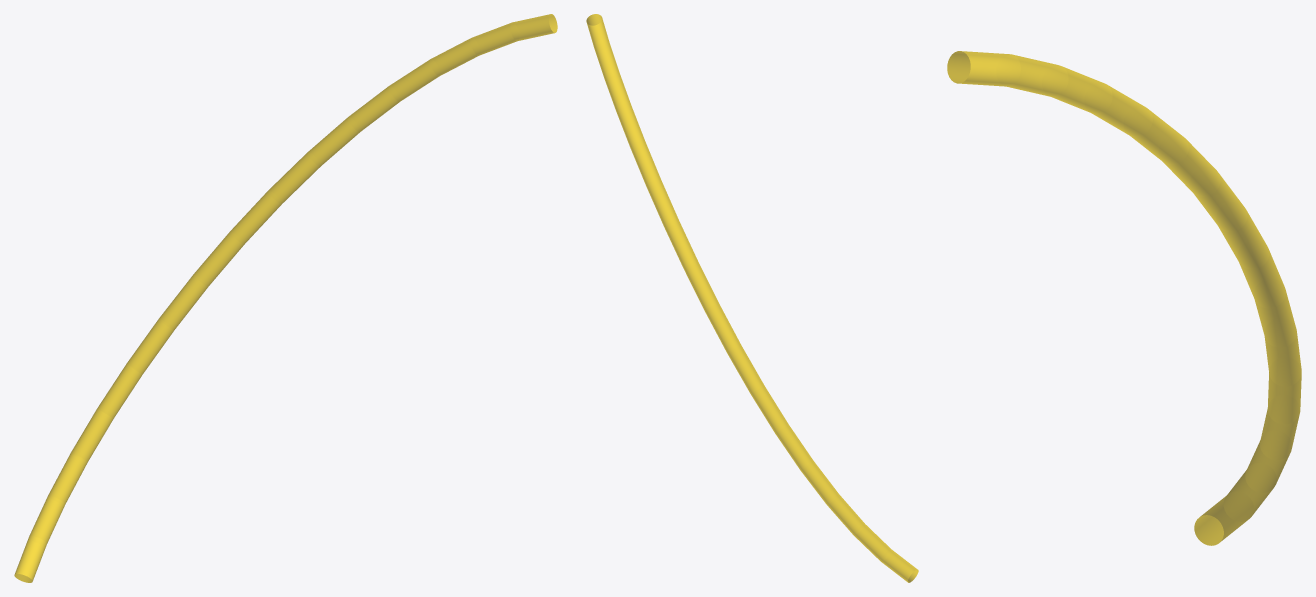
The model's file is Event_17758602_track_104.fbx.
3 renders of one model, left to right at view 1: azimuth 30°, elevation 25°; view 2: azimuth 150°, elevation 25°; view 3: azimuth 270°, elevation 25°, orthographic. The views are drawn at different scales.
Parts seen in each view (by area): view 1: Model; view 2: Model; view 3: Model.
Part boxes in pixels (box(x1,y1,x2,y2)): Model: box(14, 14, 557, 582); Model: box(586, 14, 918, 582); Model: box(947, 51, 1301, 545).
Size of the model in its own units: 1.11 by 1.16 by 0.4336.
